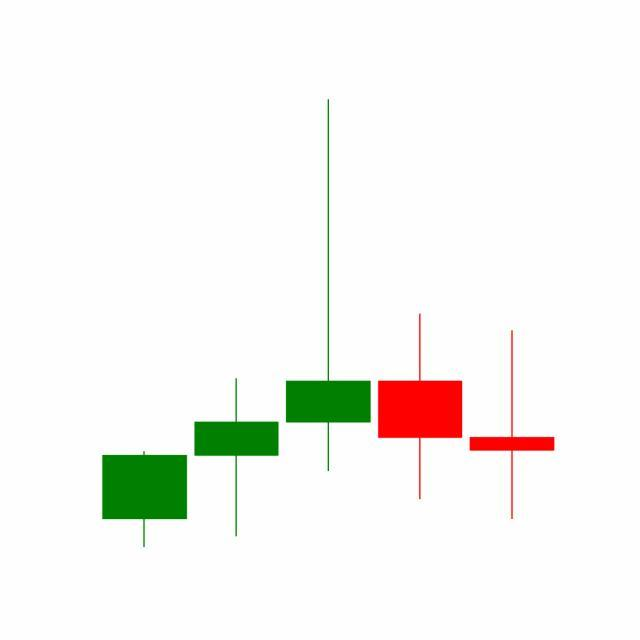Spinning Top: (466, 328, 559, 522)
